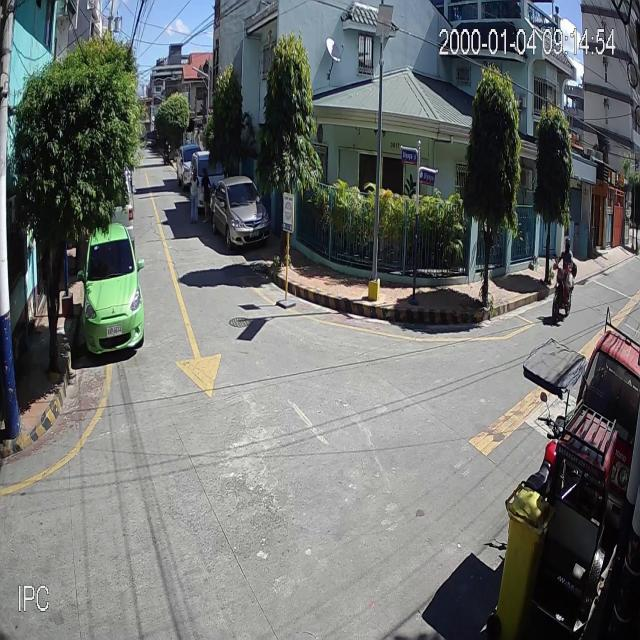walking: (201, 167, 213, 225), (190, 167, 200, 226)
